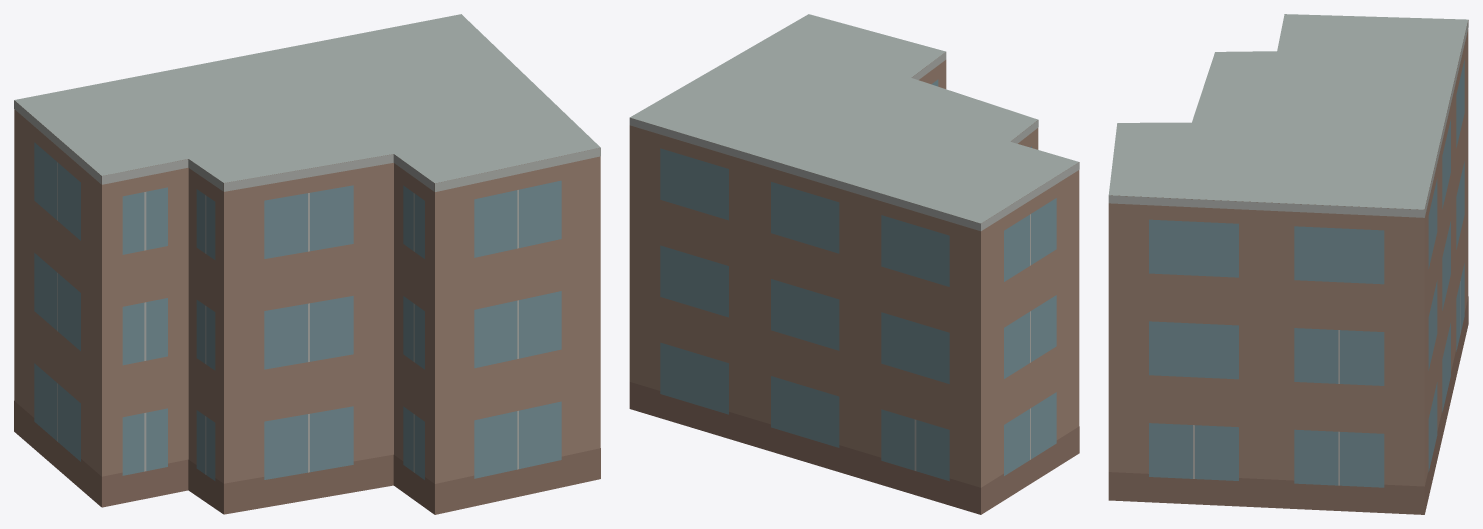
Rendered from survey-upis-33005101.glb.
3 renders of one model, left to right at view 1: azimuth 30°, elevation 25°; view 2: azimuth 150°, elevation 25°; view 3: azimuth 270°, elevation 25°, orthographic. The views are drawn at different scales.
Parts seen in each view (by area): view 1: survey-upis-33005101.tmp; view 2: survey-upis-33005101.tmp; view 3: survey-upis-33005101.tmp.
Part boxes in pixels (x1,y1,x2,y2): survey-upis-33005101.tmp: (14, 14, 600, 514); survey-upis-33005101.tmp: (629, 14, 1079, 514); survey-upis-33005101.tmp: (1108, 14, 1468, 514).
Size of the model in its own units: 12.6 by 9.15 by 9.78.
